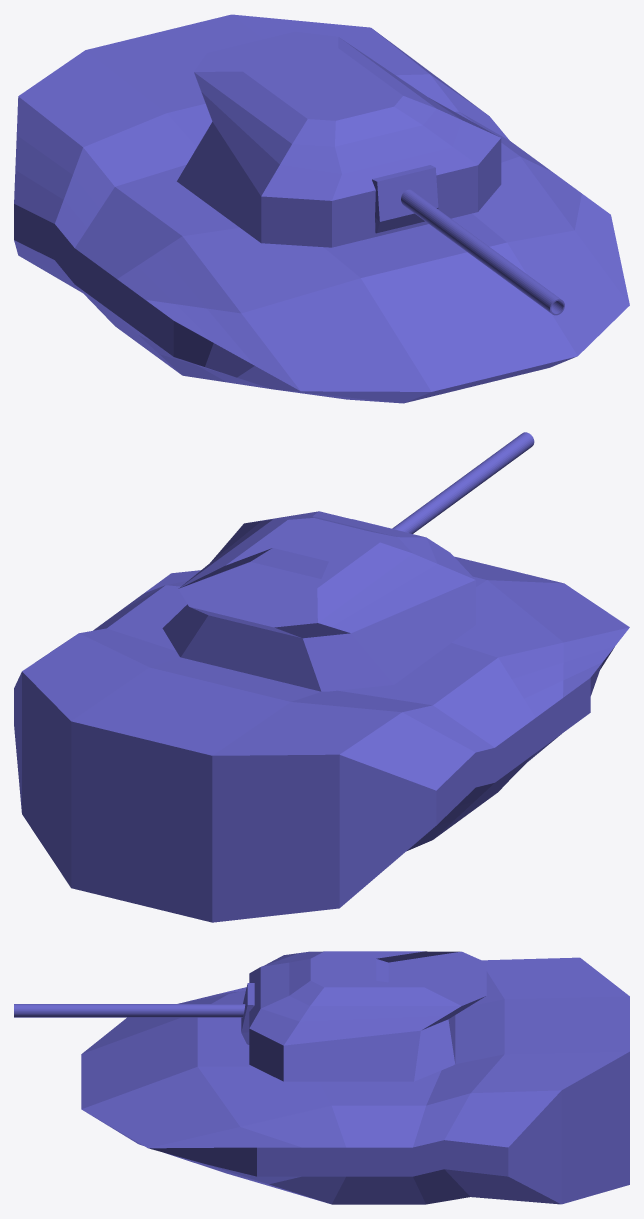
File: hover_tank.fbx
3 renders of one model, top to bottom at view 1: azimuth 30°, elevation 25°; view 2: azimuth 150°, elevation 25°; view 3: azimuth 270°, elevation 25°, orthographic. The views are drawn at different scales.
Parts seen in each view (by area): view 1: Cube; view 2: Cube; view 3: Cube.
Boxes of the visible parts, left/top/right/bottom form: Cube: left=14, top=14, right=629, bottom=403; Cube: left=14, top=432, right=629, bottom=922; Cube: left=14, top=951, right=629, bottom=1204.
Bounding box in the file's own units: 5.96 × 3.24 × 9.45.
